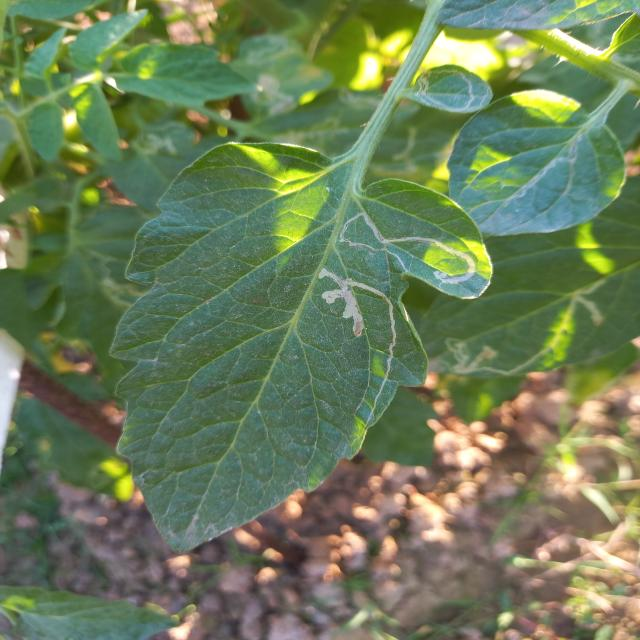Tuta absoluta: (304, 253, 422, 364), (338, 205, 481, 291)
